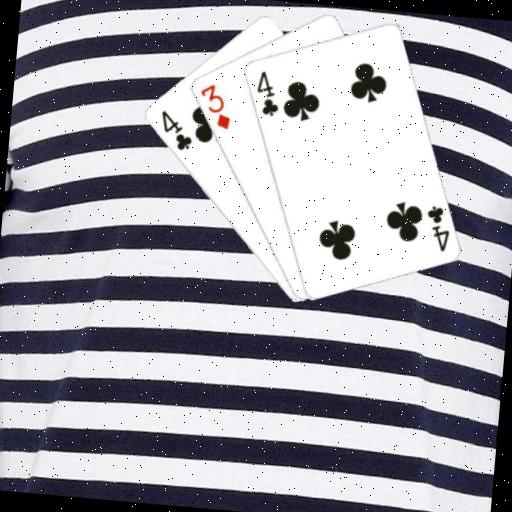3D: (194, 80, 235, 132)
4C: (155, 107, 196, 154), (420, 201, 453, 254), (252, 67, 284, 118)
